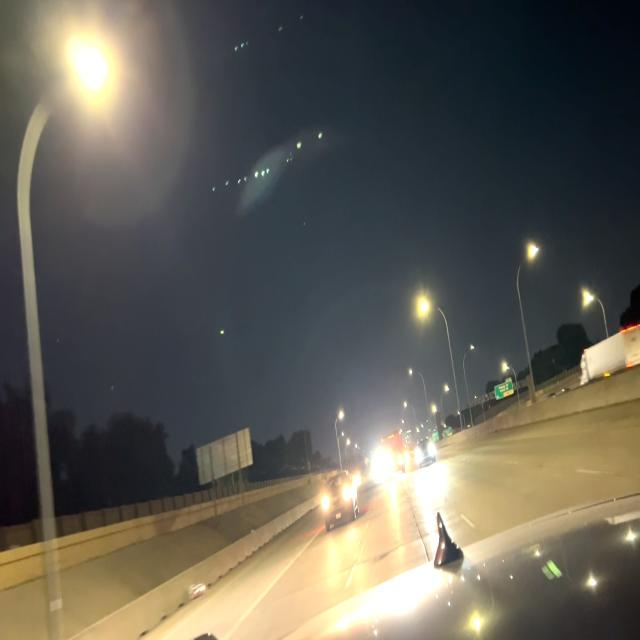back-of-sign: (194, 426, 254, 489)
